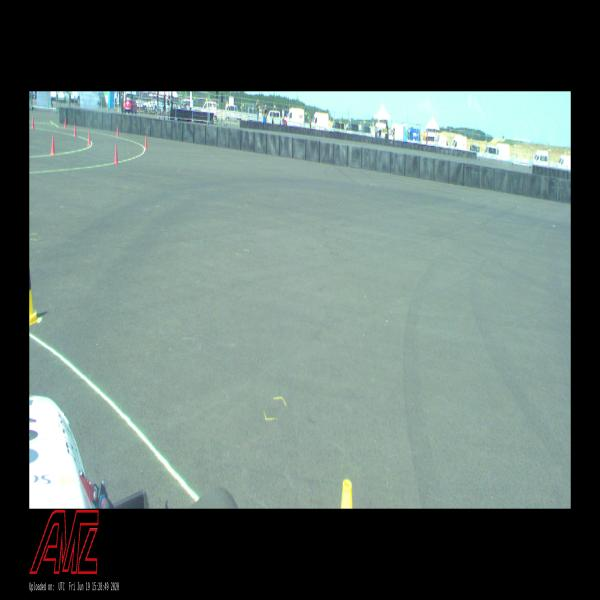unknown_cone: (113, 143, 119, 164), (50, 135, 56, 155), (87, 130, 91, 145), (145, 135, 148, 151), (73, 124, 77, 136), (116, 125, 119, 137), (64, 118, 67, 128), (32, 116, 34, 129)
yellow_cone: (29, 262, 40, 326)
